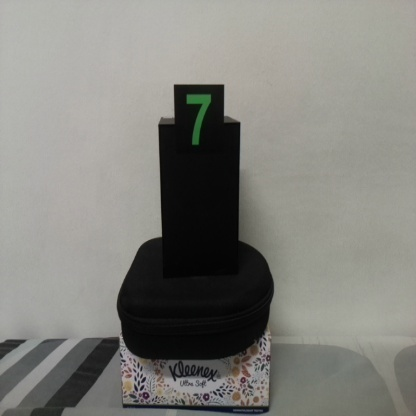id_7: (174, 86, 225, 163)
